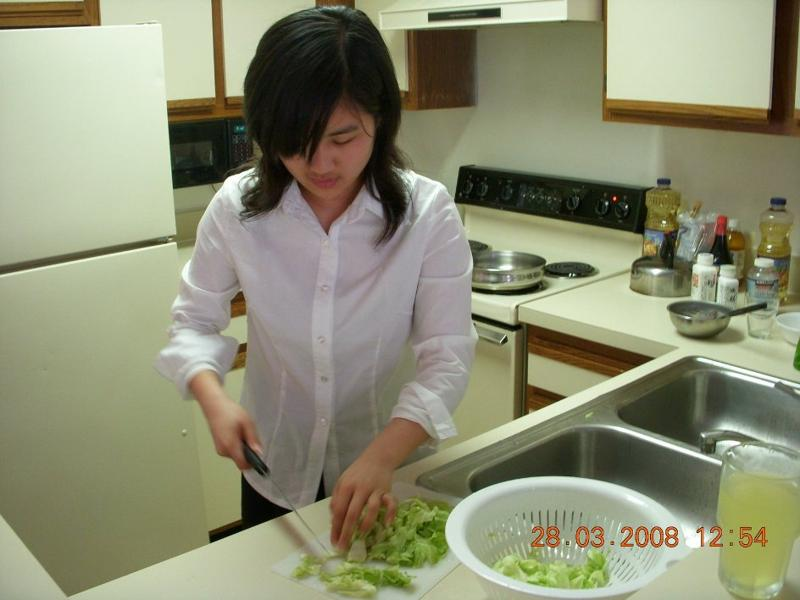person: (158, 7, 477, 554)
